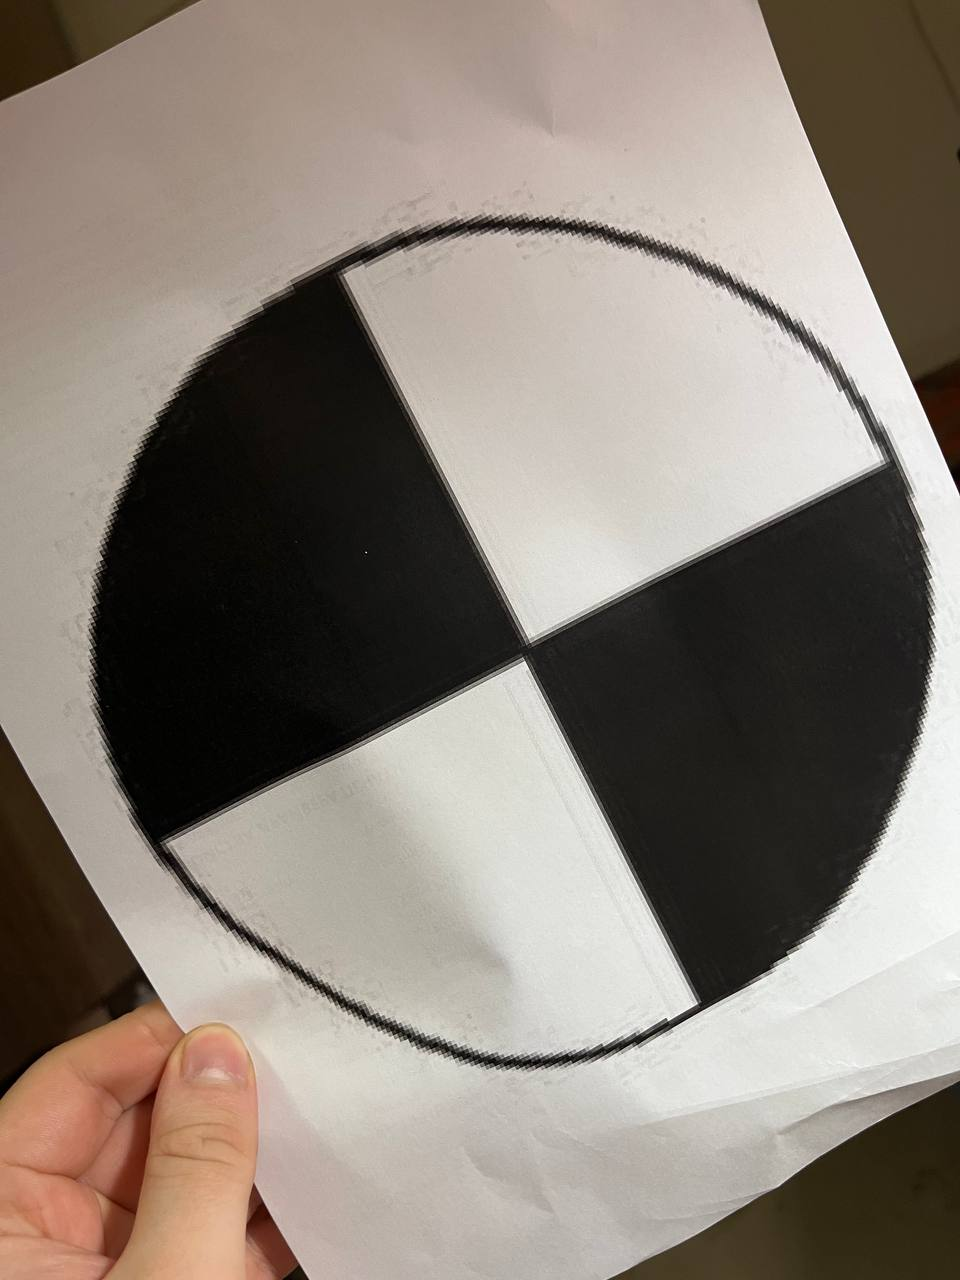pattern: (89, 211, 935, 1067)
